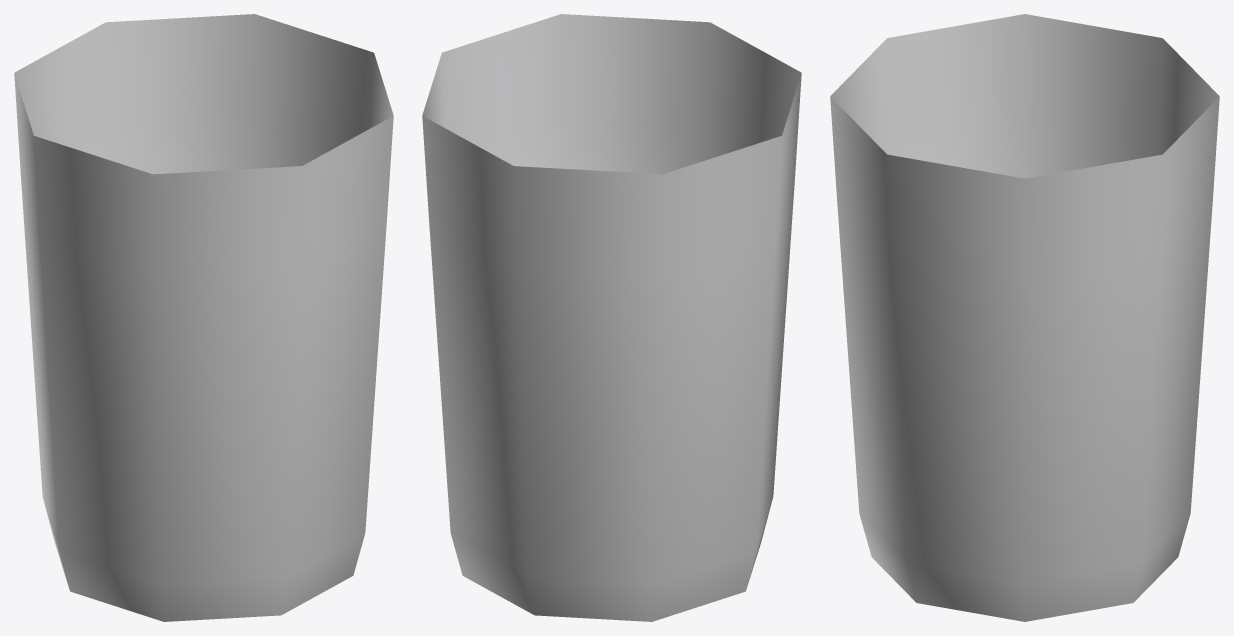
File: glass_vodka.glb
The picture shows the model from 3 angles, left to right: view 1: azimuth 30°, elevation 25°; view 2: azimuth 150°, elevation 25°; view 3: azimuth 270°, elevation 25°; orthographic projection.
Visible parts, largest first — view 1: sercups_vodka_glass_Cylinder.120; view 2: sercups_vodka_glass_Cylinder.120; view 3: sercups_vodka_glass_Cylinder.120.
Part boxes in pixels (left/top/right/bottom): sercups_vodka_glass_Cylinder.120: left=14, top=14, right=393, bottom=621; sercups_vodka_glass_Cylinder.120: left=422, top=14, right=801, bottom=621; sercups_vodka_glass_Cylinder.120: left=830, top=14, right=1219, bottom=621.
Bounding box in the file's own units: 1.58 × 2.06 × 1.58.
Materials: 1 (1 with a texture image).
